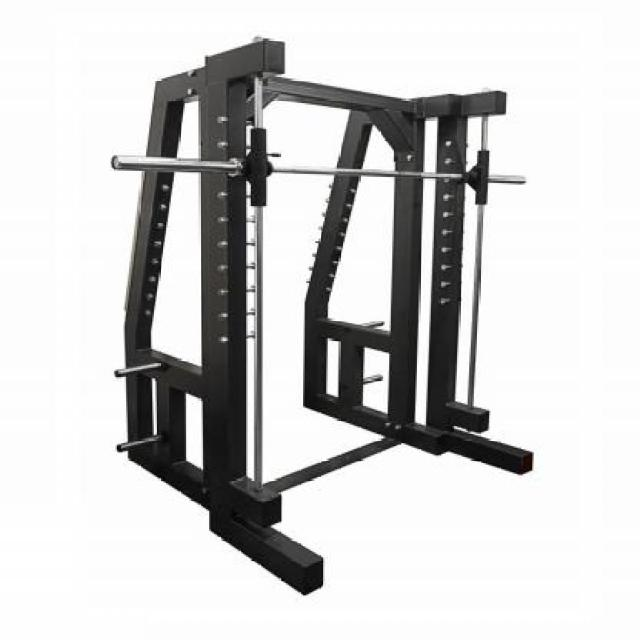smith machine: (104, 36, 534, 596)
